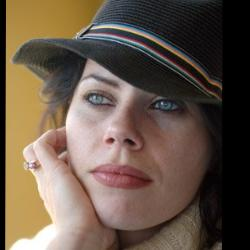face: (14, 13, 245, 236)
